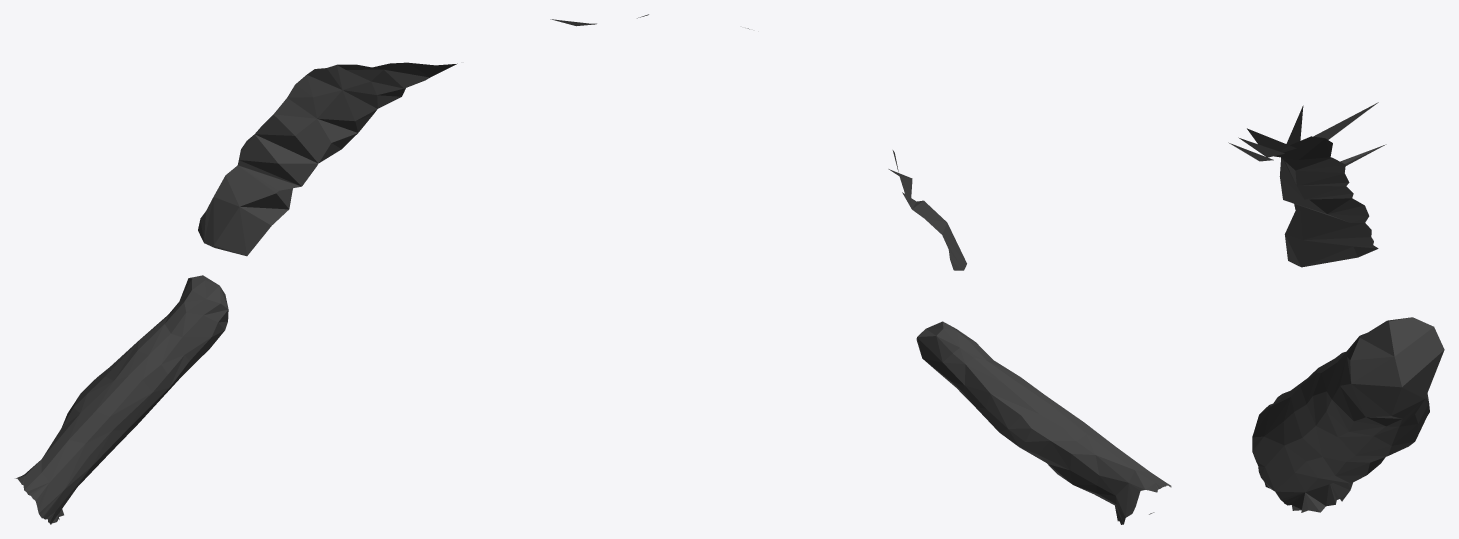
File: A_iliac_external_L_A_iliac_external_L.glb
The picture shows the model from 3 angles, left to right: view 1: azimuth 30°, elevation 25°; view 2: azimuth 150°, elevation 25°; view 3: azimuth 270°, elevation 25°; orthographic projection. The views are drawn at different scales.
Visible parts, largest first — view 1: A_iliac_external_L_A_iliac_external_L; view 2: A_iliac_external_L_A_iliac_external_L; view 3: A_iliac_external_L_A_iliac_external_L.
Boxes of the visible parts, x1,y1,x2,y2 form: A_iliac_external_L_A_iliac_external_L: [15, 19, 596, 524]; A_iliac_external_L_A_iliac_external_L: [637, 14, 1171, 524]; A_iliac_external_L_A_iliac_external_L: [1228, 102, 1444, 512].
Bounding box in the file's own units: 0.0287 × 0.0189 × 0.00551.
Materials: 1 (1 with a texture image).
